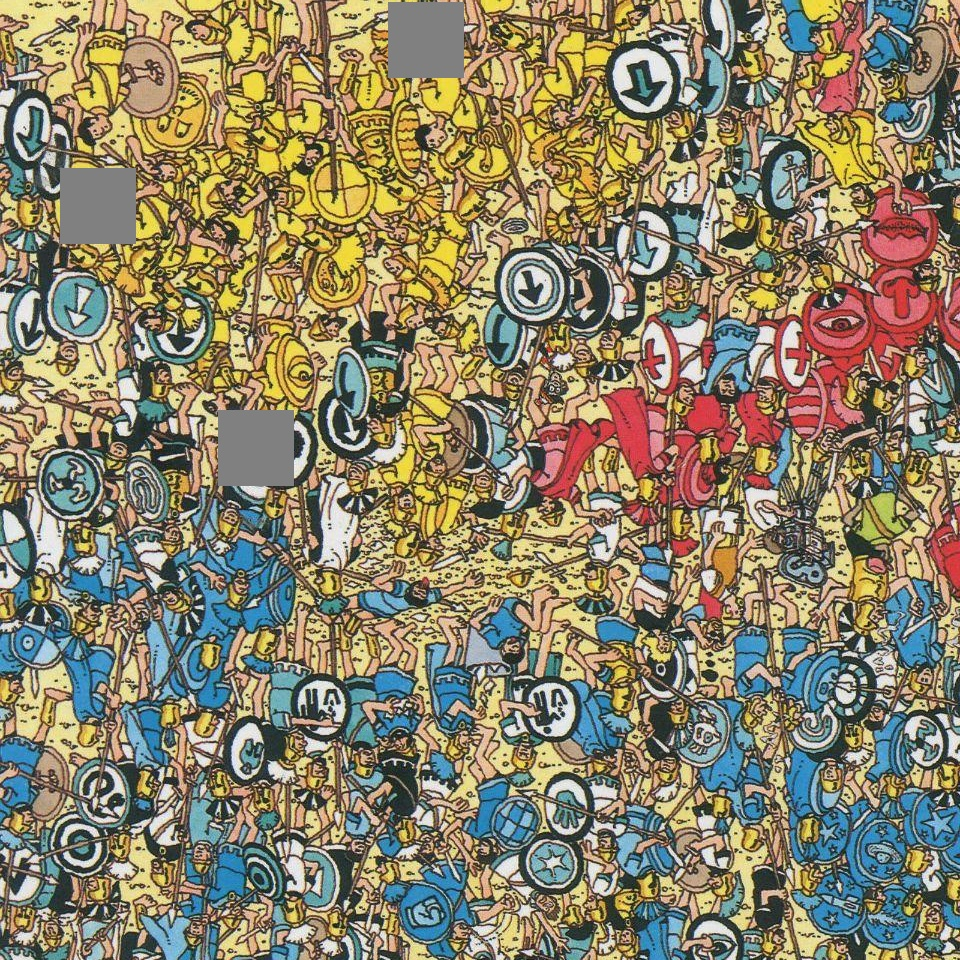waldo: (534, 372, 564, 410)
